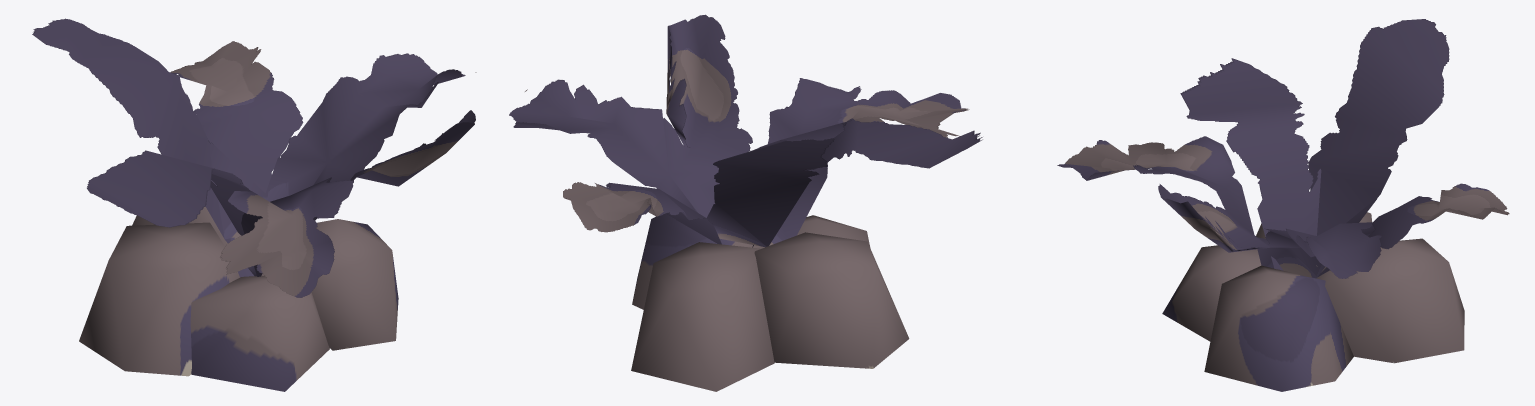
File: Sponges 6x 6_preview_3DS_simplified.glb
The picture shows the model from 3 angles, left to right: view 1: azimuth 30°, elevation 25°; view 2: azimuth 150°, elevation 25°; view 3: azimuth 270°, elevation 25°; orthographic projection. The views are drawn at different scales.
Parts seen in each view (by area): view 1: Marine Park Empire model; view 2: Marine Park Empire model; view 3: Marine Park Empire model.
Boxes of the visible parts, left/top/right/bottom form: Marine Park Empire model: left=32, top=18, right=476, bottom=391; Marine Park Empire model: left=509, top=14, right=982, bottom=391; Marine Park Empire model: left=1057, top=19, right=1509, bottom=391.
Bounding box in the file's own units: 293 × 173 × 297.
Materials: 1 (1 with a texture image).
